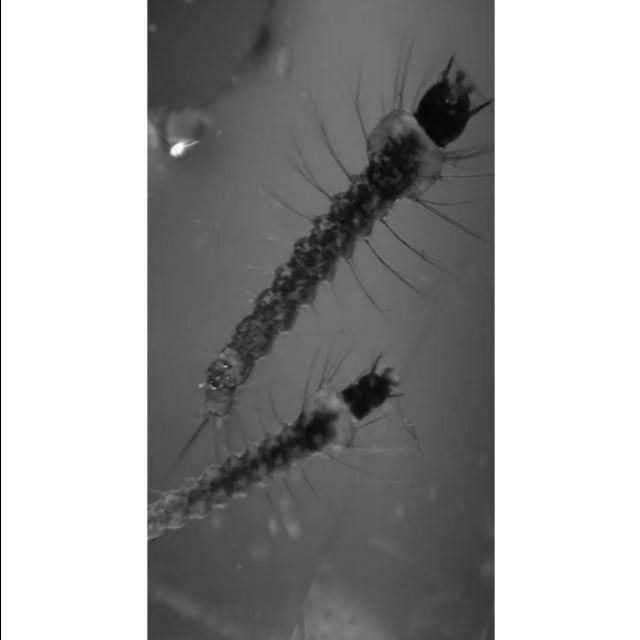larvas: (200, 67, 492, 415), (152, 362, 406, 545)
